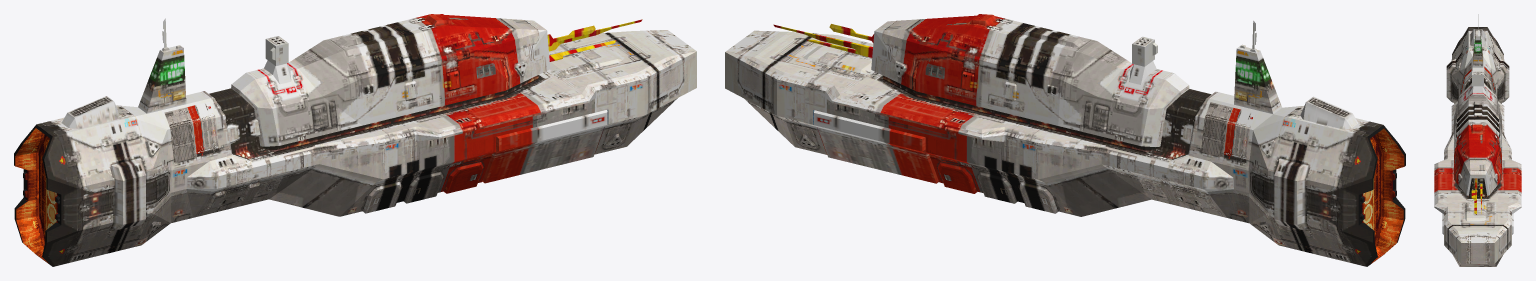
File: Eriax_Missile_Frigate.FBX
3 views of the same model, side by side, from view 1: azimuth 30°, elevation 25°; view 2: azimuth 150°, elevation 25°; view 3: azimuth 270°, elevation 25° (orthographic). The views are drawn at different scales.
Parts seen in each view (by area): view 1: group1, group3, group31, group15, group11, group2, group4, group12; view 2: group1, group3, group31, group14, group11, group2, group4, group12; view 3: group1, group3, group11, group31, group4, group12.
Boxes of the visible parts, box(x1,y1,x2,y2) form: group1: box(186, 19, 696, 217); group3: box(37, 14, 546, 266); group31: box(207, 48, 622, 213); group15: box(482, 110, 607, 183); group11: box(61, 14, 452, 233); group2: box(14, 124, 61, 265); group4: box(164, 101, 219, 162); group12: box(265, 36, 288, 65); group1: box(725, 24, 1233, 217); group3: box(875, 15, 1382, 266); group31: box(799, 45, 1212, 213); group14: box(814, 110, 938, 183); group11: box(970, 14, 1358, 234); group2: box(1358, 125, 1405, 265); group4: box(1201, 102, 1255, 162); group12: box(1132, 36, 1154, 66); group1: box(1434, 83, 1521, 266); group3: box(1451, 27, 1504, 197); group11: box(1446, 14, 1509, 132); group31: box(1454, 111, 1501, 220); group4: box(1460, 62, 1495, 94); group12: box(1472, 71, 1483, 86).
Bounding box in the file's own units: 167 × 55.92 × 33.93.
